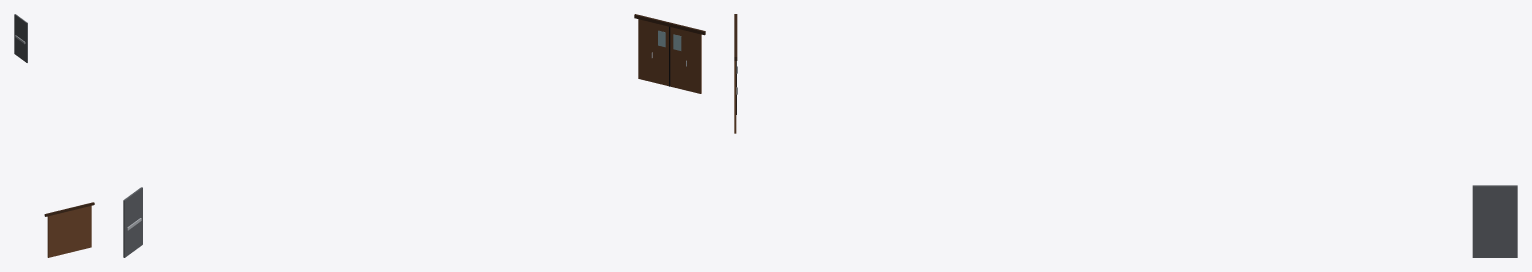
The model's file is Doors.obj.
3 renders of one model, left to right at view 1: azimuth 30°, elevation 25°; view 2: azimuth 150°, elevation 25°; view 3: azimuth 270°, elevation 25°, orthographic. The views are drawn at different scales.
Visible parts, largest first — view 1: Doors; view 2: Doors; view 3: Doors.
Boxes of the visible parts, x1,y1,x2,y2 form: Doors: (14, 14, 94, 257); Doors: (123, 14, 705, 257); Doors: (734, 14, 1517, 257).
Bounding box in the file's own units: 10.35 × 2.32 × 20.8.
1 material, 1 textured.
